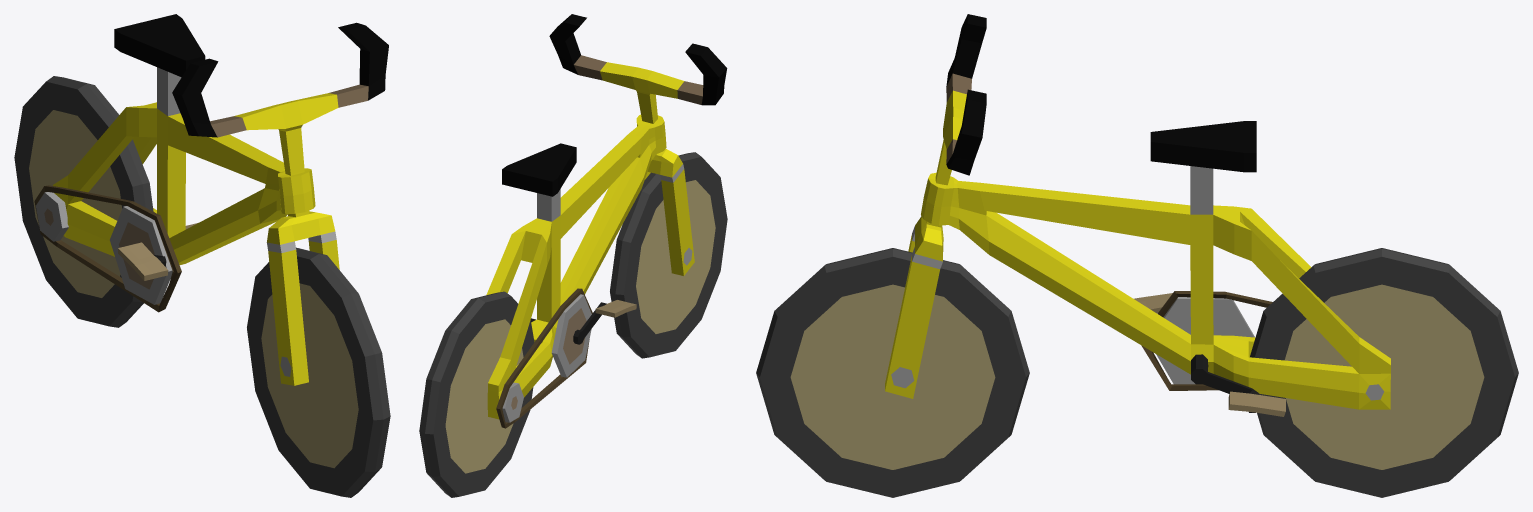
Rendered from bicycle.glb.
3 views of the same model, side by side, from view 1: azimuth 30°, elevation 25°; view 2: azimuth 150°, elevation 25°; view 3: azimuth 270°, elevation 25° (orthographic). The views are drawn at different scales.
Visible parts, largest first — view 1: BicycleBodyFront_5, WheelFront_3, WheelBack_4, BicycleBody_0, Cube.063_1, Pedal_2; view 2: BicycleBodyFront_5, WheelFront_3, WheelBack_4, BicycleBody_0, Cube.063_1, Pedal_2; view 3: WheelFront_3, BicycleBodyFront_5, WheelBack_4, BicycleBody_0, Pedal_2, Cube.063_1.
Boxes of the visible parts, x1,y1,x2,y2 form: BicycleBodyFront_5: (36,14,315,304); WheelFront_3: (247,247,390,497); WheelBack_4: (14,76,153,327); BicycleBody_0: (172,22,388,385); Cube.063_1: (34,185,181,312); Pedal_2: (118,223,197,280); BicycleBodyFront_5: (486,114,666,422); WheelFront_3: (610,152,727,358); WheelBack_4: (419,291,534,497); BicycleBody_0: (549,14,727,275); Cube.063_1: (496,288,592,428); Pedal_2: (530,300,636,344); WheelFront_3: (756,248,1029,497); BicycleBodyFront_5: (921,121,1390,409); WheelBack_4: (1250,248,1518,497); BicycleBody_0: (885,14,986,398); Pedal_2: (1134,293,1285,416); Cube.063_1: (1141,291,1272,390).
Bounding box in the file's own units: 0.8686 × 1.68 × 2.63.
1 material, 1 textured.
